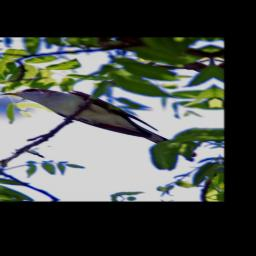Cuckoo: (0, 85, 198, 161)
